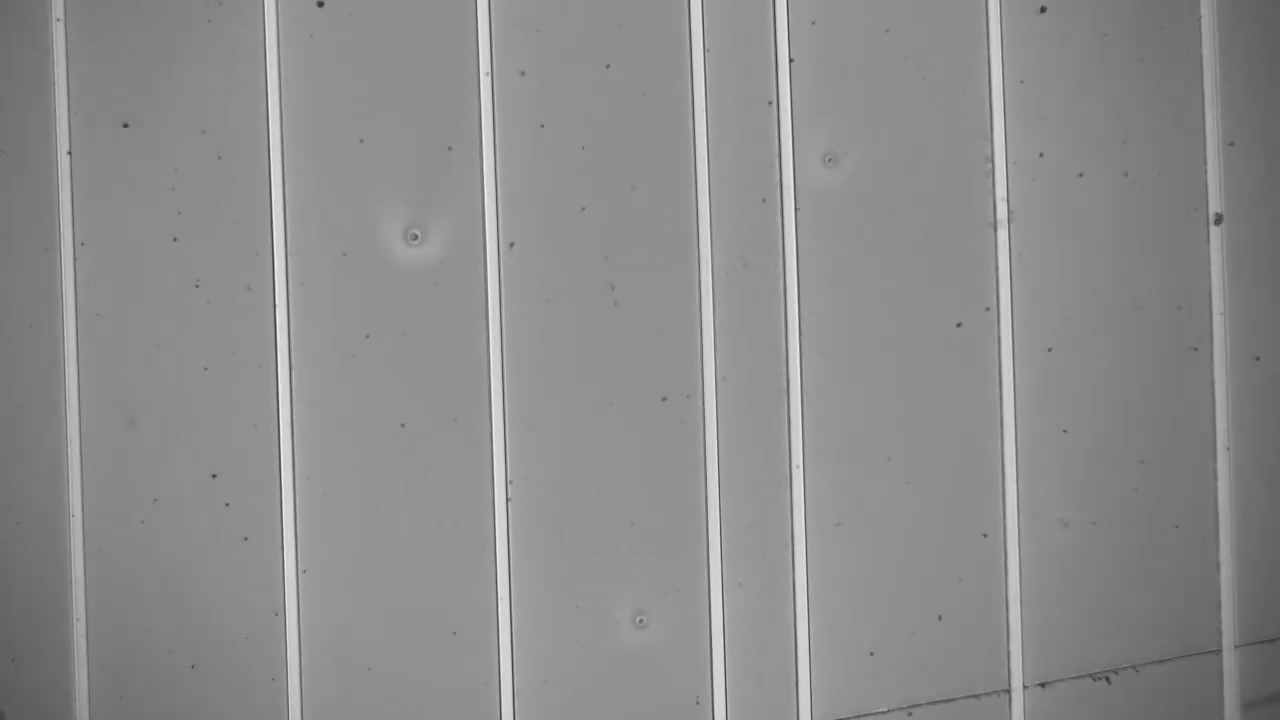scratch: (848, 642, 1267, 719)
stains_enbedded: (1201, 206, 1228, 238)
